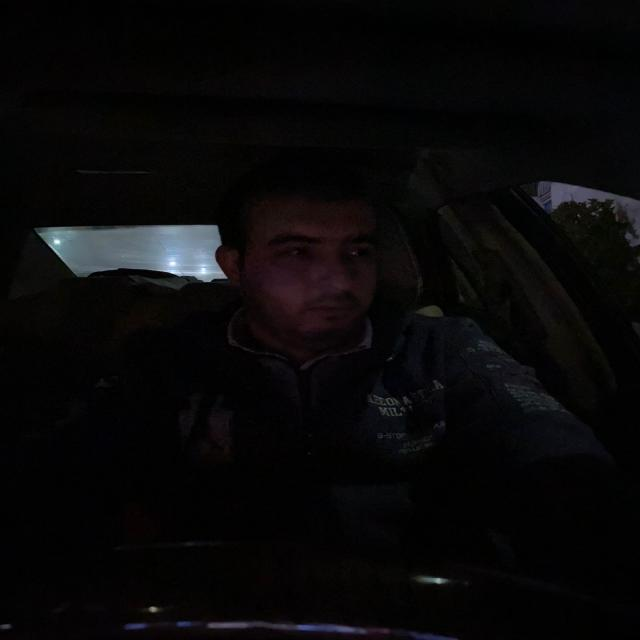person: (208, 162, 420, 358)
